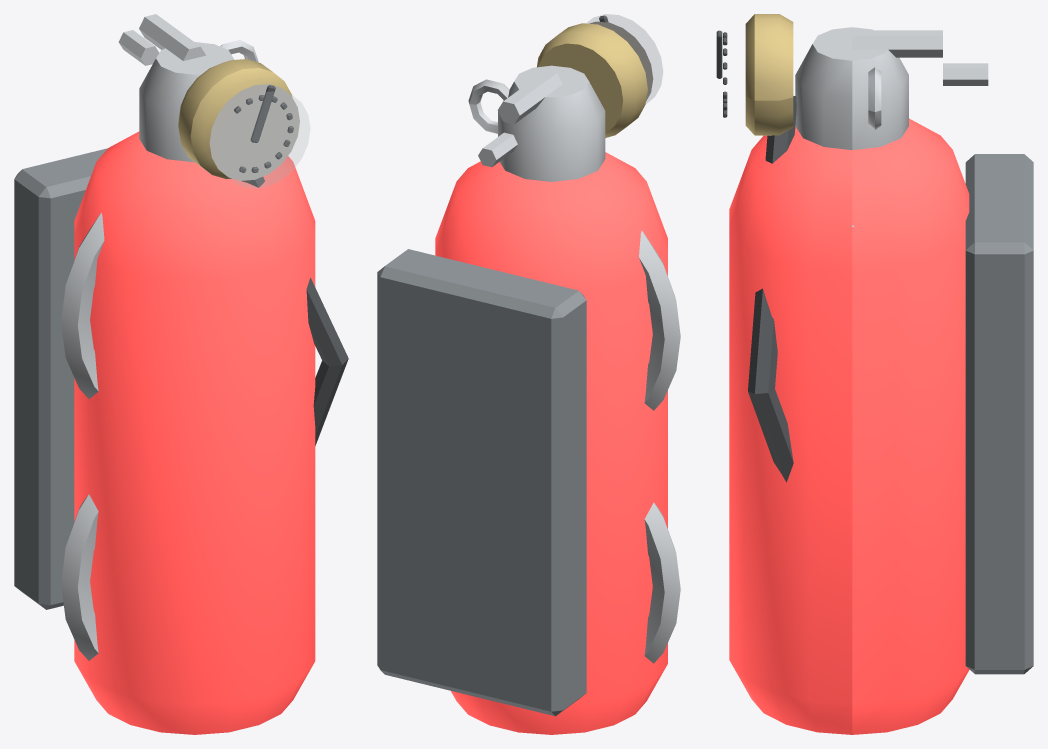
Rendered from submarine-interior-and-control-room-fire-extinguisher--606568ed__36507.glb.
3 renders of one model, left to right at view 1: azimuth 30°, elevation 25°; view 2: azimuth 150°, elevation 25°; view 3: azimuth 270°, elevation 25°, orthographic. The views are drawn at different scales.
Visible parts, largest first — view 1: fire-extinguisher-on-bracket; view 2: fire-extinguisher-on-bracket; view 3: fire-extinguisher-on-bracket.
Part boxes in pixels (x1,y1,x2,y2): fire-extinguisher-on-bracket: (14, 14, 348, 734); fire-extinguisher-on-bracket: (377, 14, 680, 734); fire-extinguisher-on-bracket: (716, 14, 1033, 734).
Bounding box in the file's own units: 0.2494 × 0.654 × 0.286.
